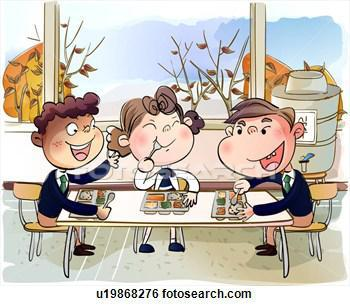chair: (10, 179, 91, 262), (274, 182, 340, 266), (134, 175, 189, 253)
diningtable: (59, 185, 304, 282)
person: (104, 87, 205, 257), (214, 99, 316, 260), (30, 93, 118, 257)
